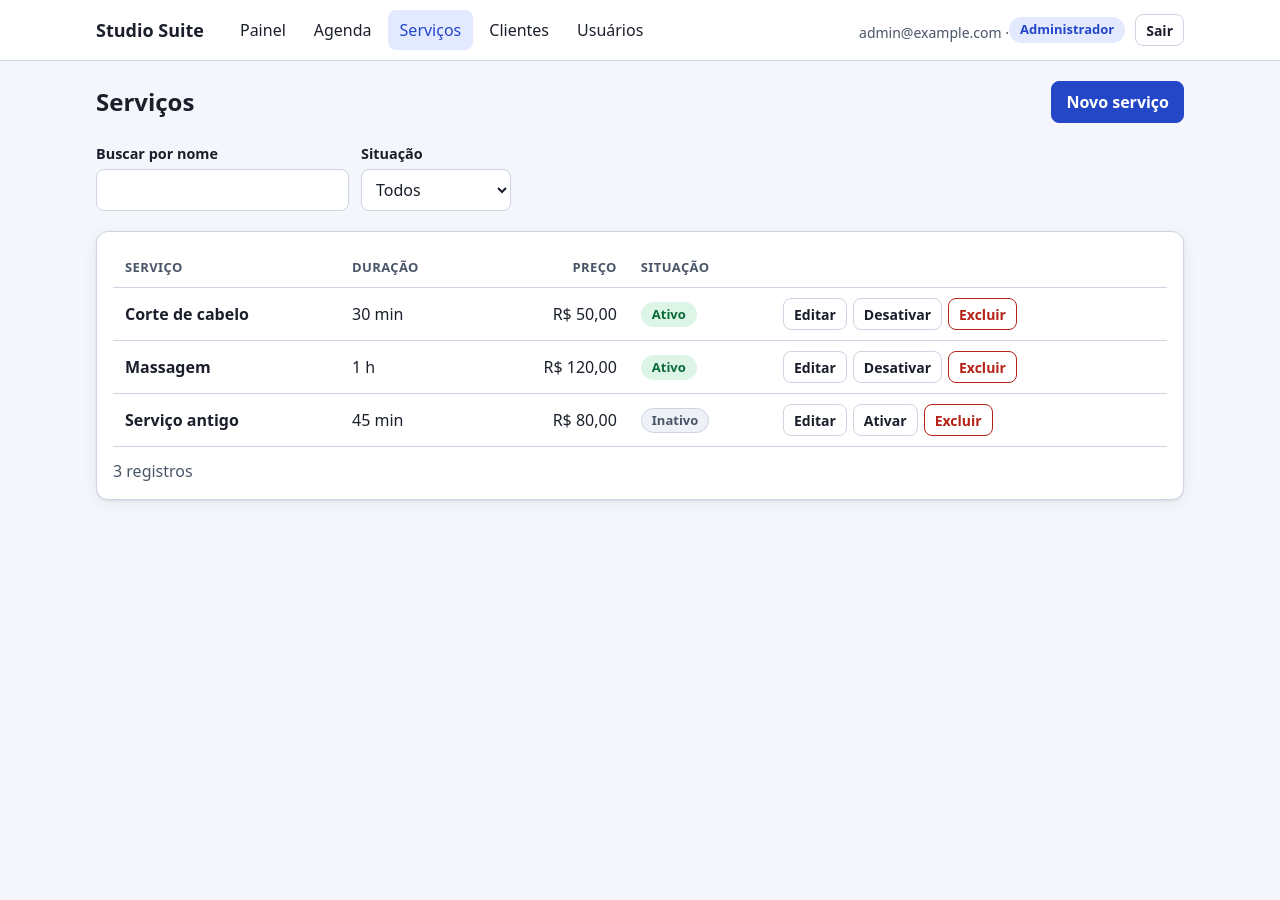
services CRUD › creates a service: parses "49,90" into 4990 cents and lists it
Expected: the heading "Serviços" is shown, [96, 87, 194, 117]
Click the button "Novo serviço" at (1118, 102), box [1052, 81, 1184, 123]
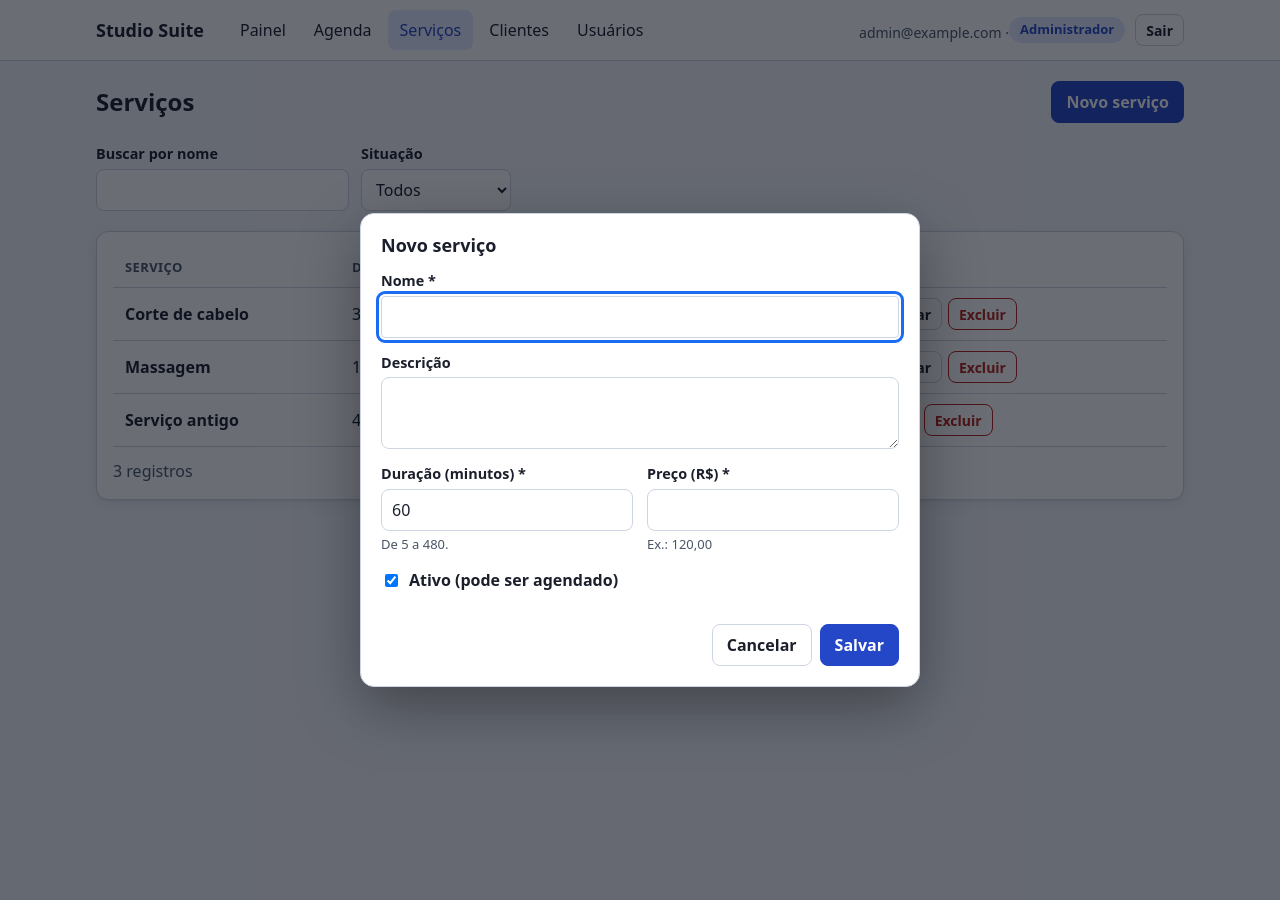
Type "Manicure" into the field labelled "Nome *" at (640, 317), box [381, 296, 899, 338]
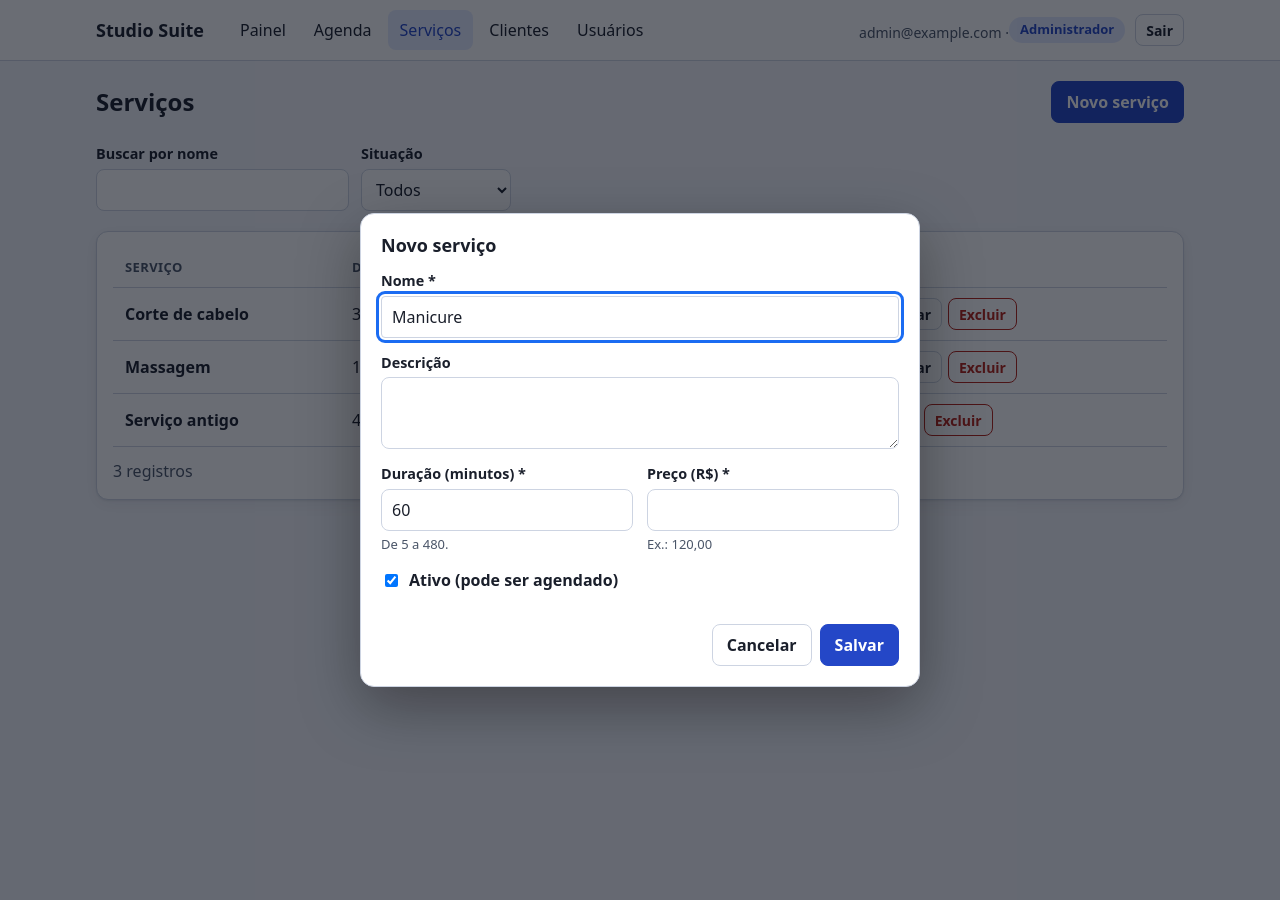
Replace the text in the number field labelled "Duração (minutos) *" with "45" at (507, 510), box [381, 489, 633, 531]
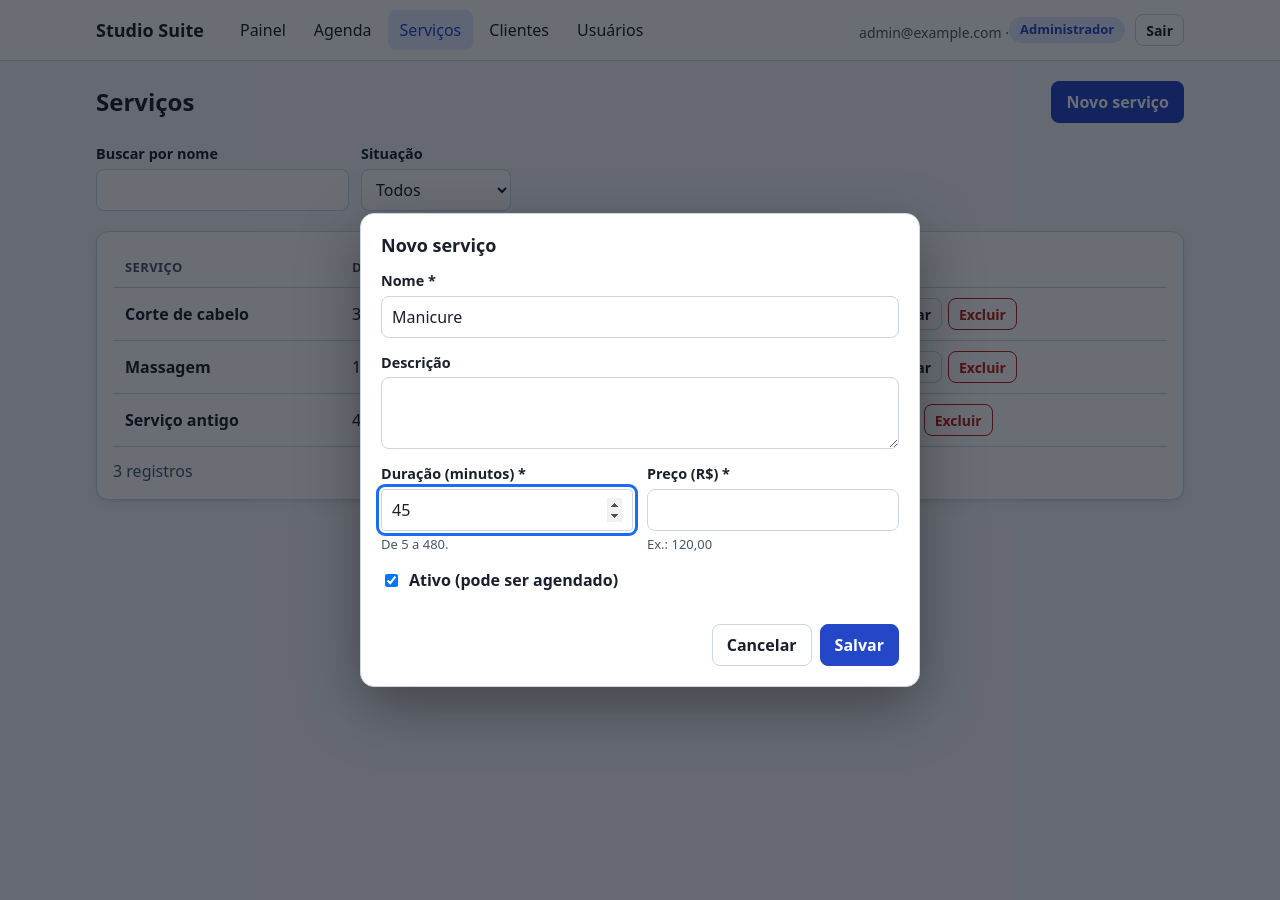
Type "49,90" into the field labelled "Preço (R$) *" at (773, 510), box [647, 489, 899, 531]
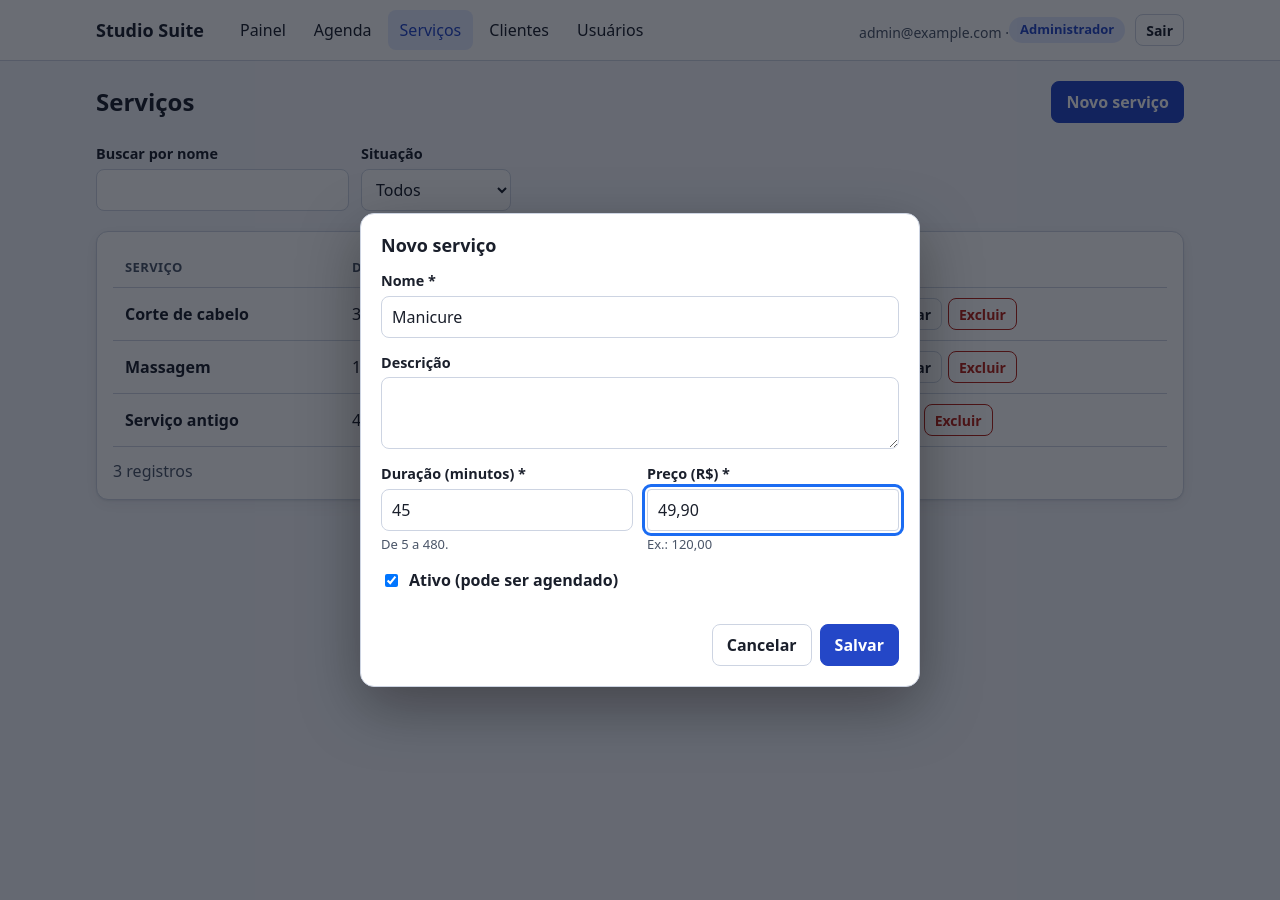
Click the button "Salvar" at (859, 645), box [820, 624, 899, 666]
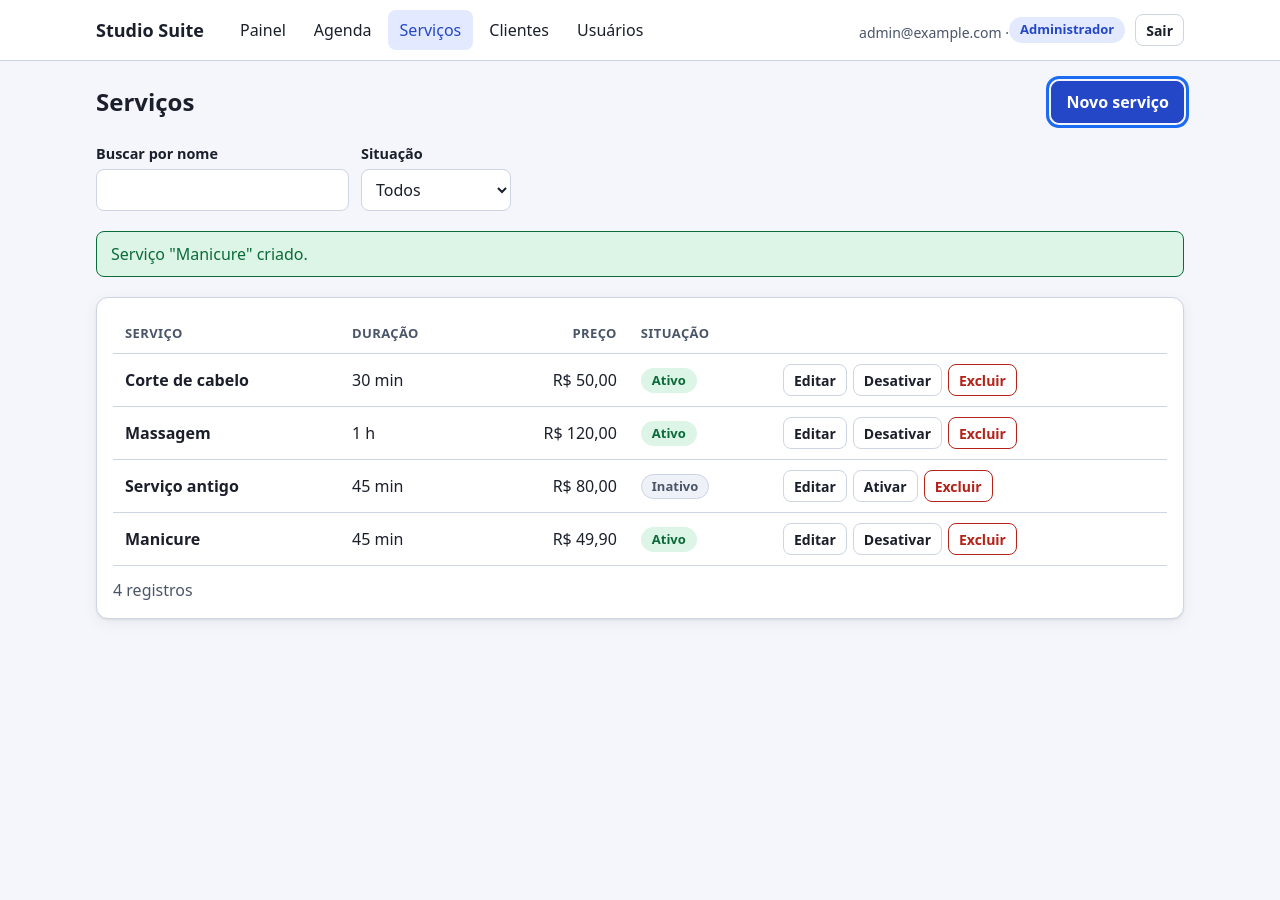
Result: the message reads "Serviço \"Manicure\" criado." at [111, 243, 308, 265]
Result: the dialog is gone
Result: the text "Manicure" is shown at [125, 528, 200, 550]
